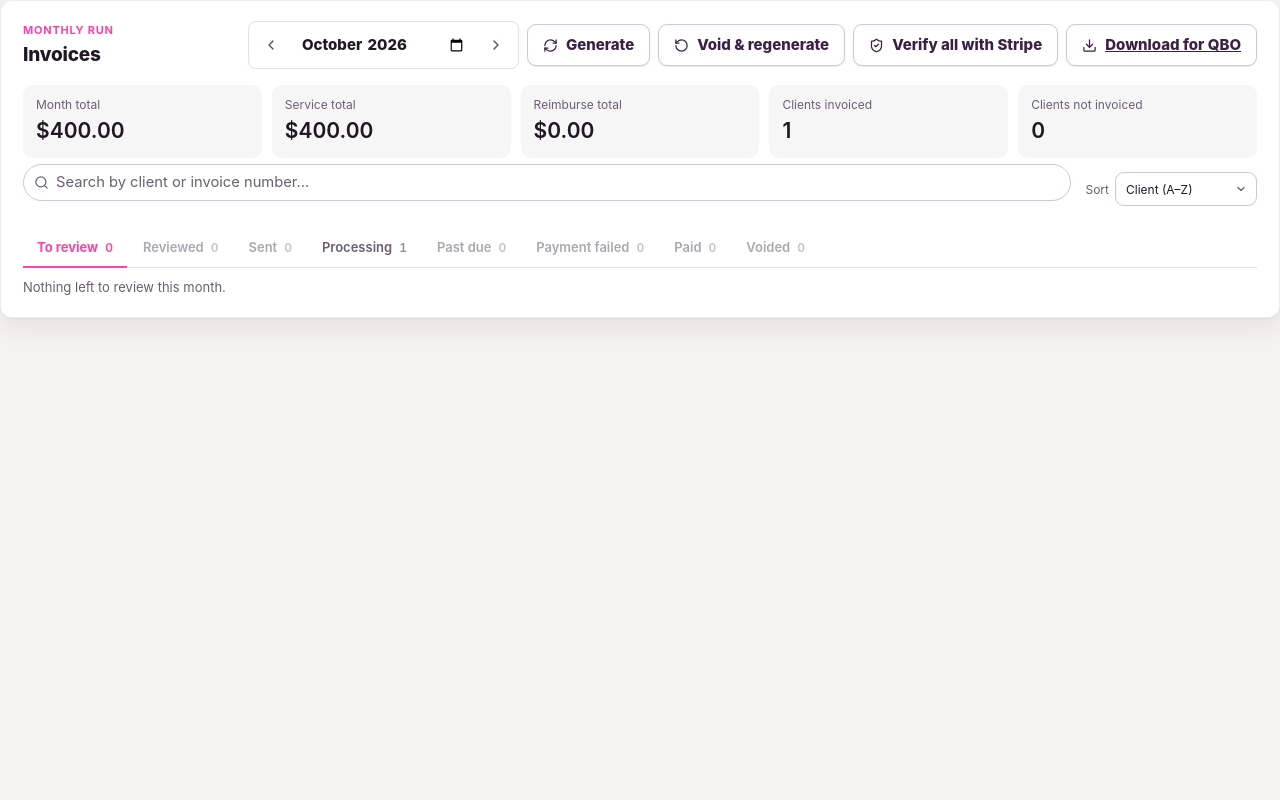
Test: the Autopay badge › reads Autopay, quietly, while the attempt is claimed
This screenshot has width=1280, height=800.
Click the tab "Processing 1". click: (364, 249)
box: [308, 229, 421, 268]
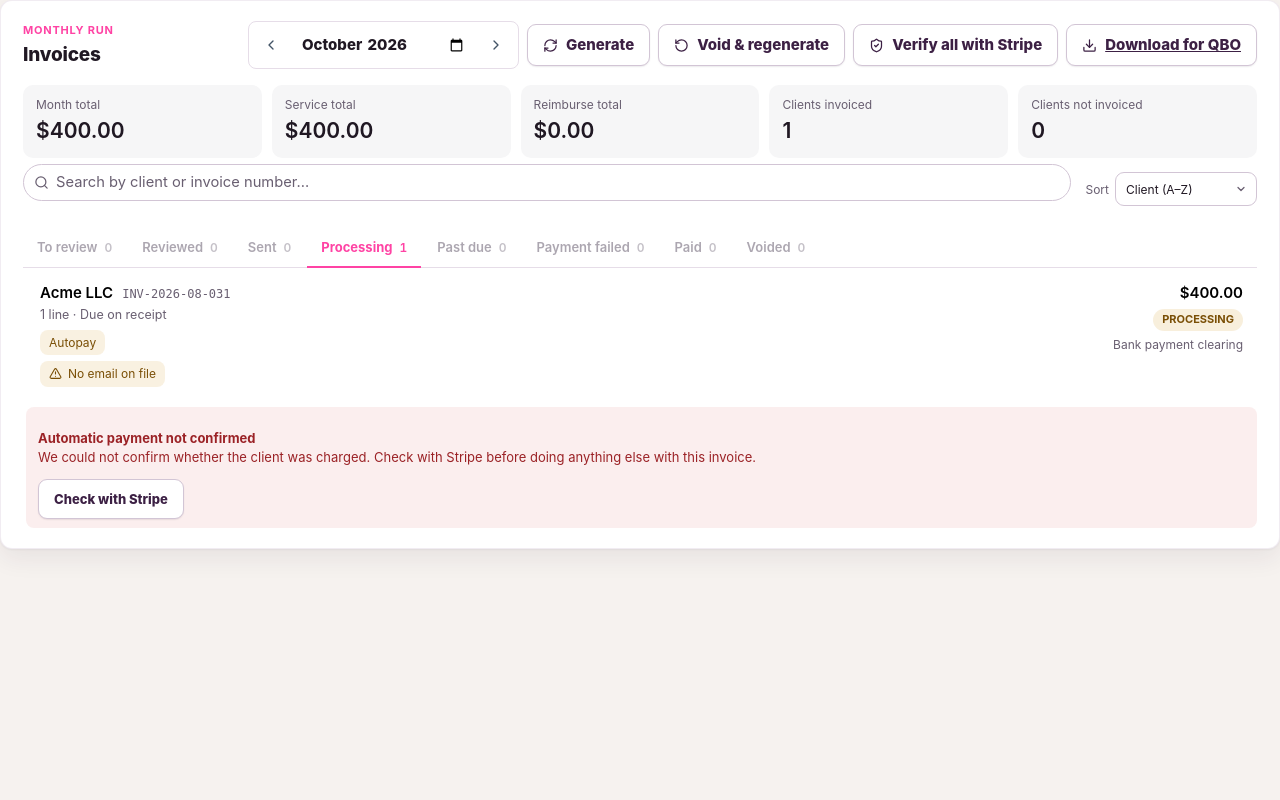
Check: the text "INV-2026-08-031" is shown, box [122, 286, 231, 303]
